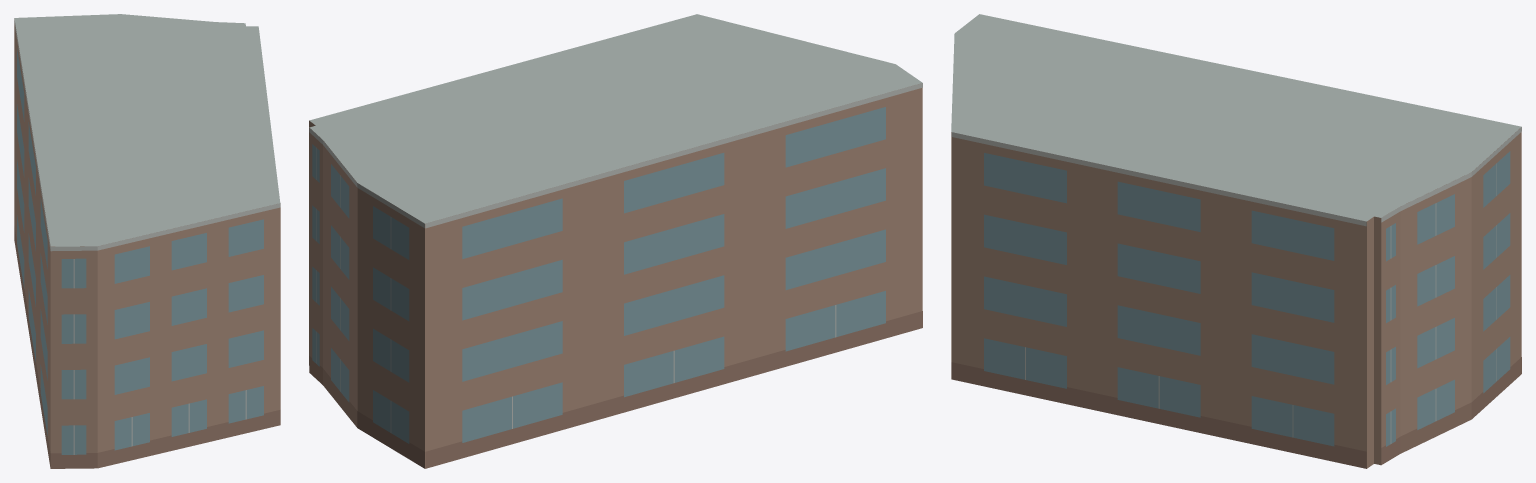
Rendered from survey-upis-32927518.glb.
3 views of the same model, side by side, from view 1: azimuth 30°, elevation 25°; view 2: azimuth 150°, elevation 25°; view 3: azimuth 270°, elevation 25° (orthographic). The views are drawn at different scales.
Parts seen in each view (by area): view 1: survey-upis-32927518.tmp; view 2: survey-upis-32927518.tmp; view 3: survey-upis-32927518.tmp.
Part boxes in pixels (x1=…): survey-upis-32927518.tmp: x1=14, y1=14, x2=280, y2=468; survey-upis-32927518.tmp: x1=309, y1=14, x2=922, y2=468; survey-upis-32927518.tmp: x1=951, y1=14, x2=1521, y2=468.
Bounding box in the file's own units: 22.33 × 12.4 × 25.94.
